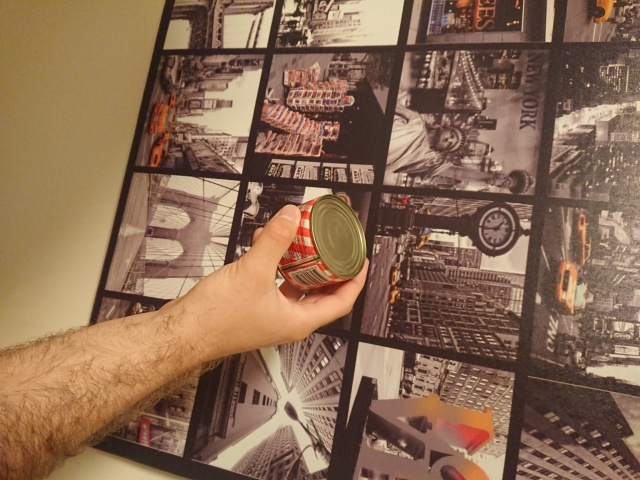Podravka Luncheon Meat 150g: (269, 192, 369, 293)
